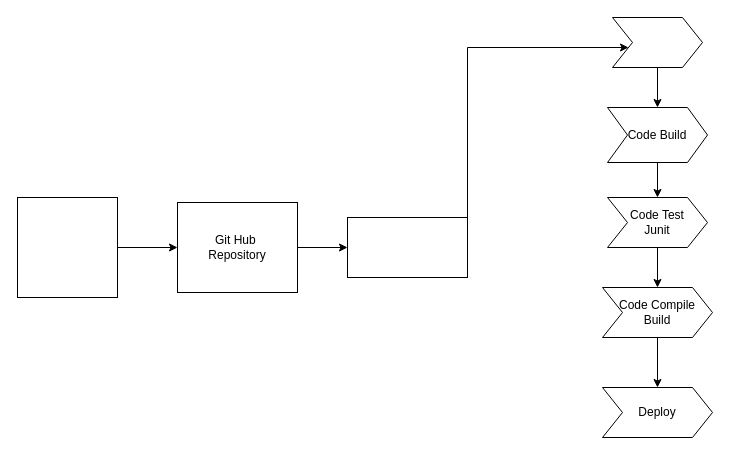
This 730x455 diagram has some shape labels left out. Each missing label, with the centre of its shape:
"Code Build Java" goes at [67,247].
"Git Clone" goes at [657,42].
"Jenkins" goes at [407,247].
